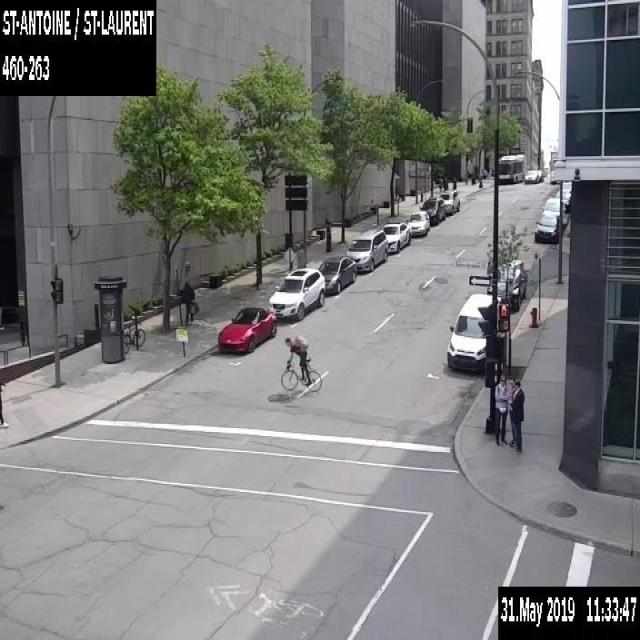bus: (498, 153, 524, 183)
construction: (283, 246, 296, 272)
cyclist: (281, 335, 321, 392)
pedestrian: (508, 377, 524, 452), (492, 375, 508, 446), (181, 278, 194, 322), (0, 378, 7, 428)
vehicle: (446, 291, 500, 373), (266, 267, 325, 319), (218, 306, 276, 352), (486, 259, 527, 310), (345, 227, 388, 271), (317, 255, 356, 292), (381, 220, 411, 251), (418, 195, 445, 225), (534, 213, 558, 243), (405, 209, 429, 236), (438, 189, 459, 214), (555, 188, 571, 212), (542, 196, 560, 216), (524, 169, 538, 182), (562, 180, 571, 192), (537, 169, 543, 180)
